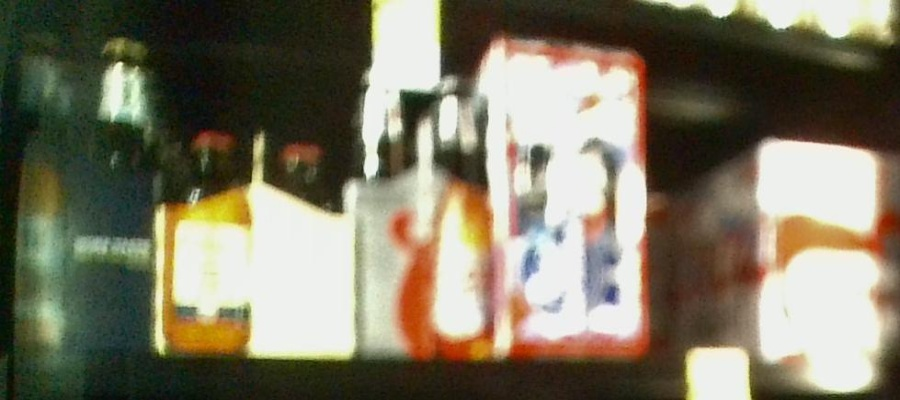bottle: (490, 25, 645, 351), (6, 27, 156, 351), (154, 124, 349, 361), (710, 140, 900, 361), (351, 65, 491, 361)
